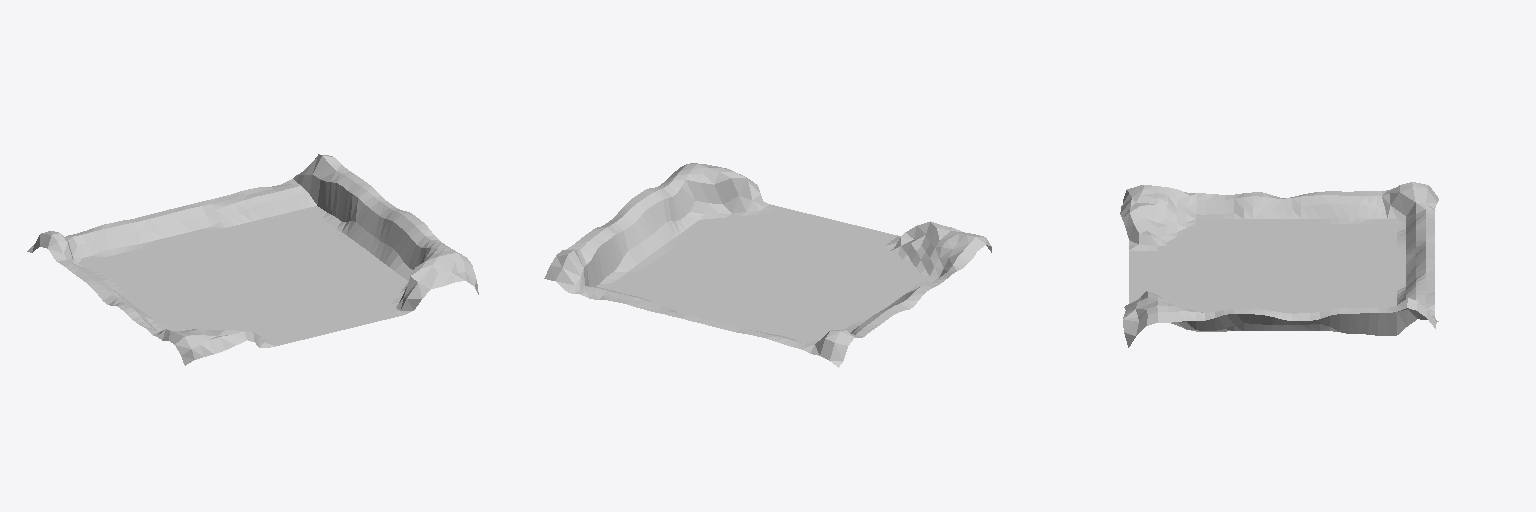
File: PyramidTerrain.obj
The picture shows the model from 3 angles: view 1: azimuth 30°, elevation 25°; view 2: azimuth 150°, elevation 25°; view 3: azimuth 270°, elevation 25°; orthographic projection.
Parts seen in each view (by area): view 1: PyramidTerrain; view 2: PyramidTerrain; view 3: PyramidTerrain.
Part boxes in pixels (left/top/right/bottom): PyramidTerrain: left=27, top=154, right=478, bottom=365; PyramidTerrain: left=544, top=163, right=991, bottom=367; PyramidTerrain: left=1120, top=182, right=1438, bottom=347.
Size of the model in its own units: 407 by 56.07 by 376.